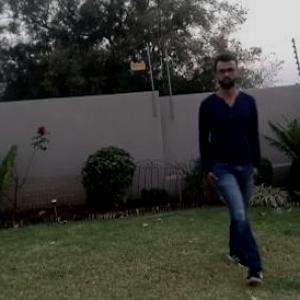follow: (170, 42, 255, 290)
